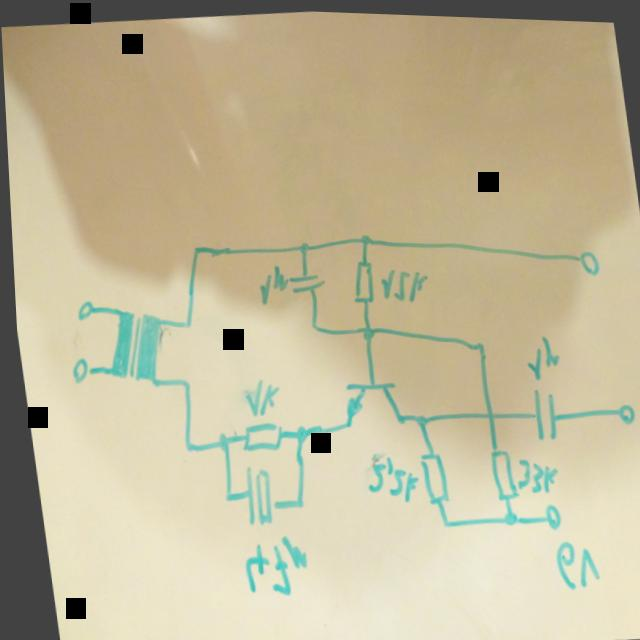capacitor: (231, 459, 280, 530), (519, 380, 569, 445), (282, 256, 325, 304)
crossover: (474, 401, 495, 423)
junction: (208, 428, 229, 456), (284, 421, 307, 443), (494, 505, 514, 528), (353, 321, 374, 342), (406, 409, 424, 429), (215, 485, 232, 506), (353, 229, 370, 248), (431, 512, 448, 530), (175, 438, 191, 456), (175, 374, 189, 394), (467, 336, 483, 353), (287, 495, 303, 512), (187, 240, 201, 258), (177, 315, 191, 332), (292, 238, 306, 255), (303, 318, 316, 334)
resistor: (412, 443, 446, 506), (231, 416, 283, 457), (341, 250, 376, 309), (481, 439, 513, 503)
terminal: (568, 241, 604, 277), (63, 354, 93, 389), (607, 394, 635, 428), (533, 497, 560, 530), (68, 298, 95, 326)
text: (231, 527, 307, 601), (356, 450, 418, 507), (543, 530, 598, 591), (371, 258, 430, 307), (517, 328, 560, 382), (236, 373, 284, 420), (507, 450, 556, 495), (247, 260, 289, 310)
transformer: (96, 307, 168, 392)
transistor: (330, 366, 405, 437)
